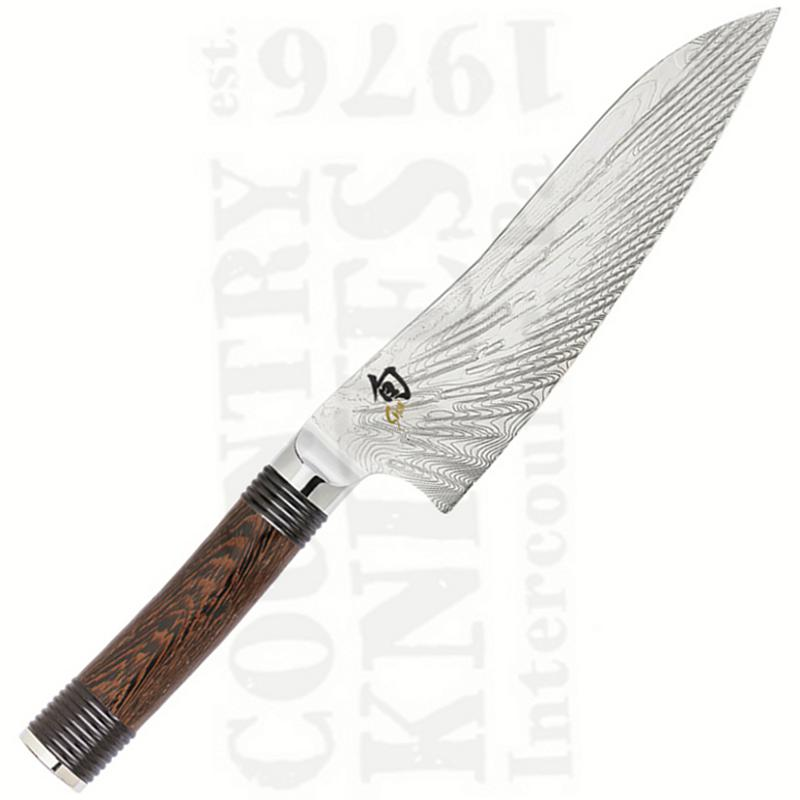knife: (18, 6, 782, 790)
